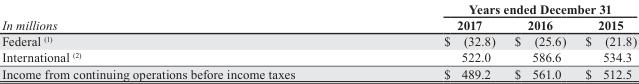table: (1, 1, 636, 80)
table column: (1, 1, 368, 80), (368, 1, 504, 80), (504, 1, 575, 80), (575, 1, 636, 80)
table column header: (1, 1, 636, 32)
table row: (1, 48, 636, 65), (1, 16, 636, 32), (1, 32, 636, 48), (1, 1, 636, 16), (1, 65, 636, 80)
table spanning cell: (1, 1, 368, 32), (368, 1, 636, 16)
